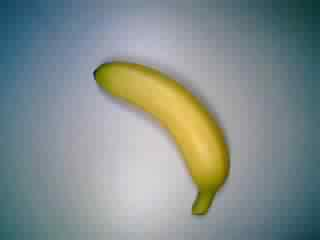banana: (89, 56, 235, 218)
